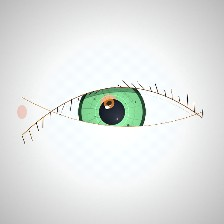foreign_body_visible: (95, 92, 123, 115)
